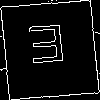E: (25, 24, 69, 73)
